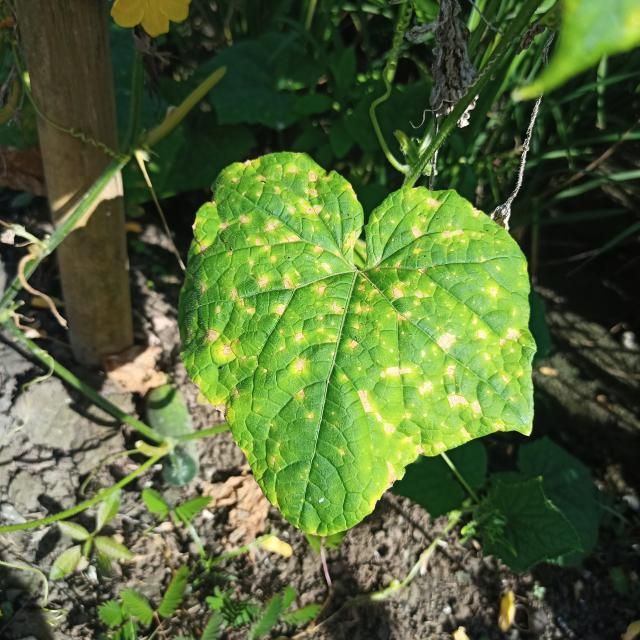disease_cucumber: (190, 167, 524, 507)
